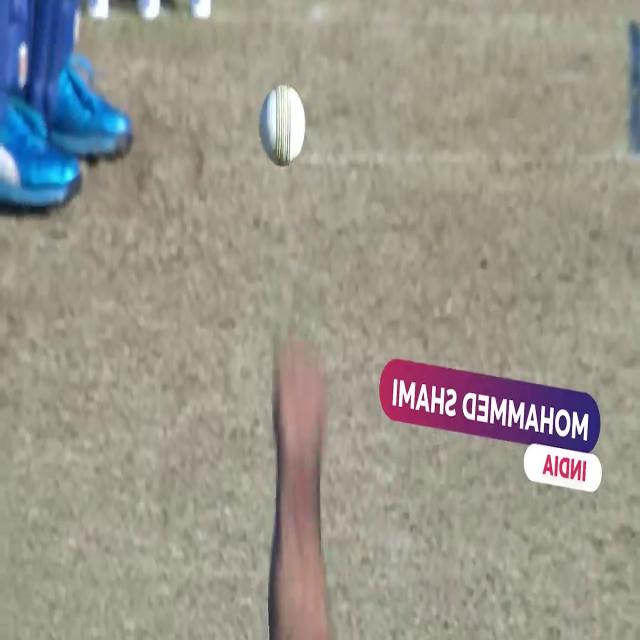ball: (257, 84, 305, 170)
